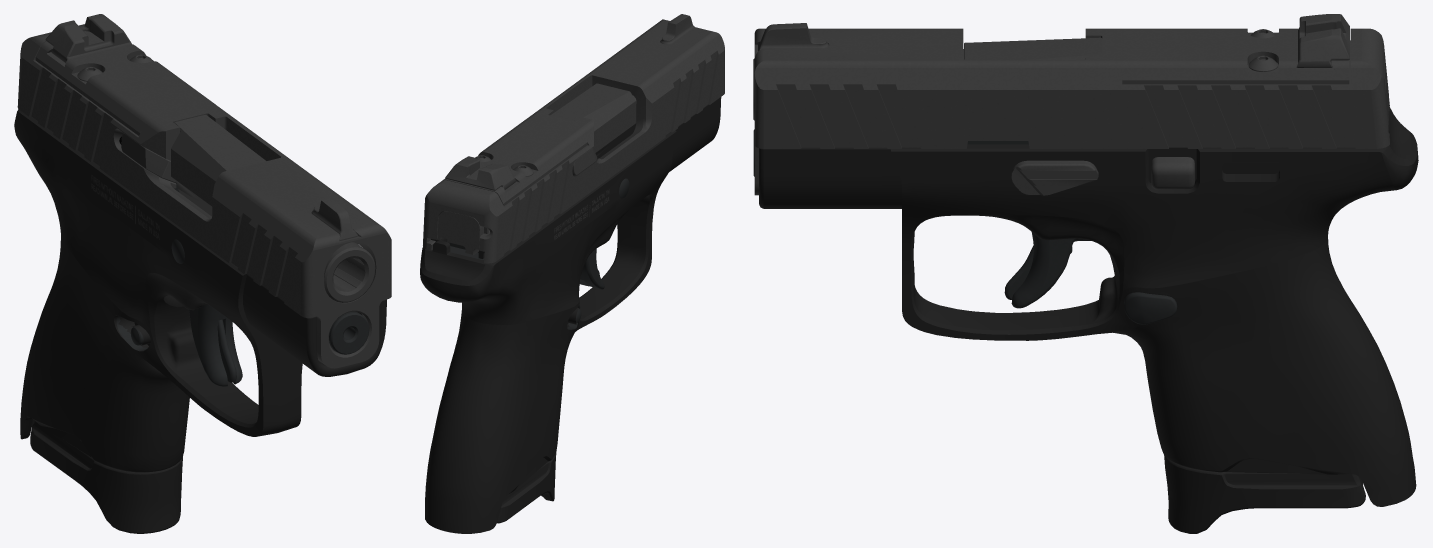
The model's file is beretta_apx_a1_carry_nero.glb.
3 renders of one model, left to right at view 1: azimuth 30°, elevation 25°; view 2: azimuth 150°, elevation 25°; view 3: azimuth 270°, elevation 25°, orthographic. The views are drawn at different scales.
Visible parts, largest first — view 1: apx_a1_carry_nero_0; view 2: apx_a1_carry_nero_0; view 3: apx_a1_carry_nero_0.
Boxes of the visible parts, x1,y1,x2,y2 form: apx_a1_carry_nero_0: [14, 14, 391, 533]; apx_a1_carry_nero_0: [420, 14, 724, 533]; apx_a1_carry_nero_0: [753, 14, 1418, 533].
Bounding box in the file's own units: 2.8 × 12.22 × 14.87.
1 material, 1 textured.
